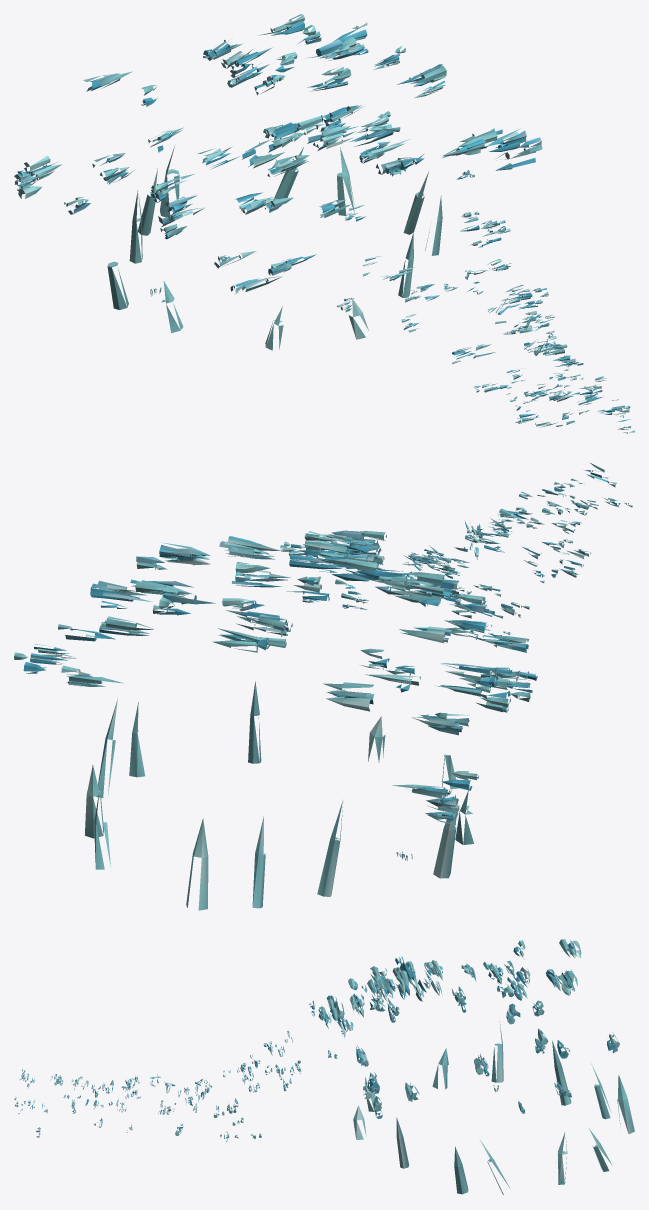
Rendered from cave_glasswyrm_cavern_glow_lod1.glb.
3 views of the same model, one above another, from view 1: azimuth 30°, elevation 25°; view 2: azimuth 150°, elevation 25°; view 3: azimuth 270°, elevation 25° (orthographic). The views are drawn at different scales.
Visible parts, largest first — view 1: geometry_0; view 2: geometry_0; view 3: geometry_0.
Boxes of the visible parts, <box> form: geometry_0: <box>14,14,634,433</box>; geometry_0: <box>14,463,632,910</box>; geometry_0: <box>14,939,634,1194</box>.
Size of the model in its own units: 89.86 by 46.25 by 154.
